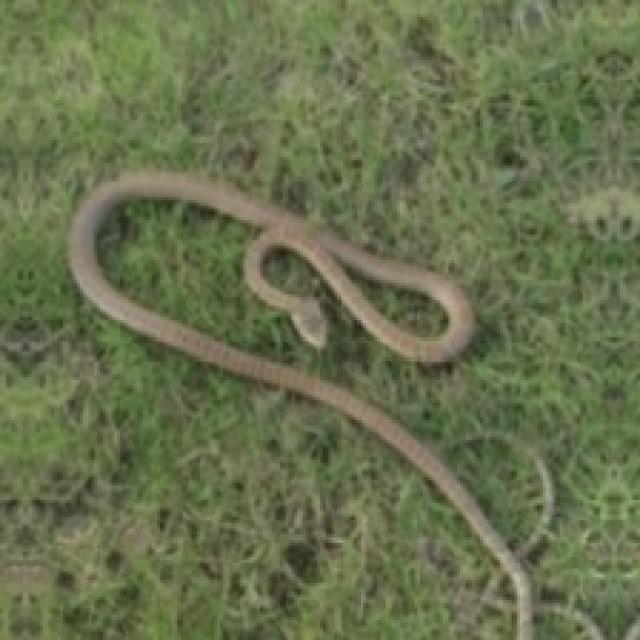paradise tree snake: (69, 171, 531, 637)
